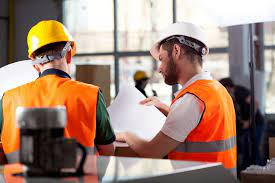Helmet: (148, 19, 208, 51), (20, 22, 78, 50)
Jacket: (7, 75, 107, 152), (171, 86, 246, 176)
